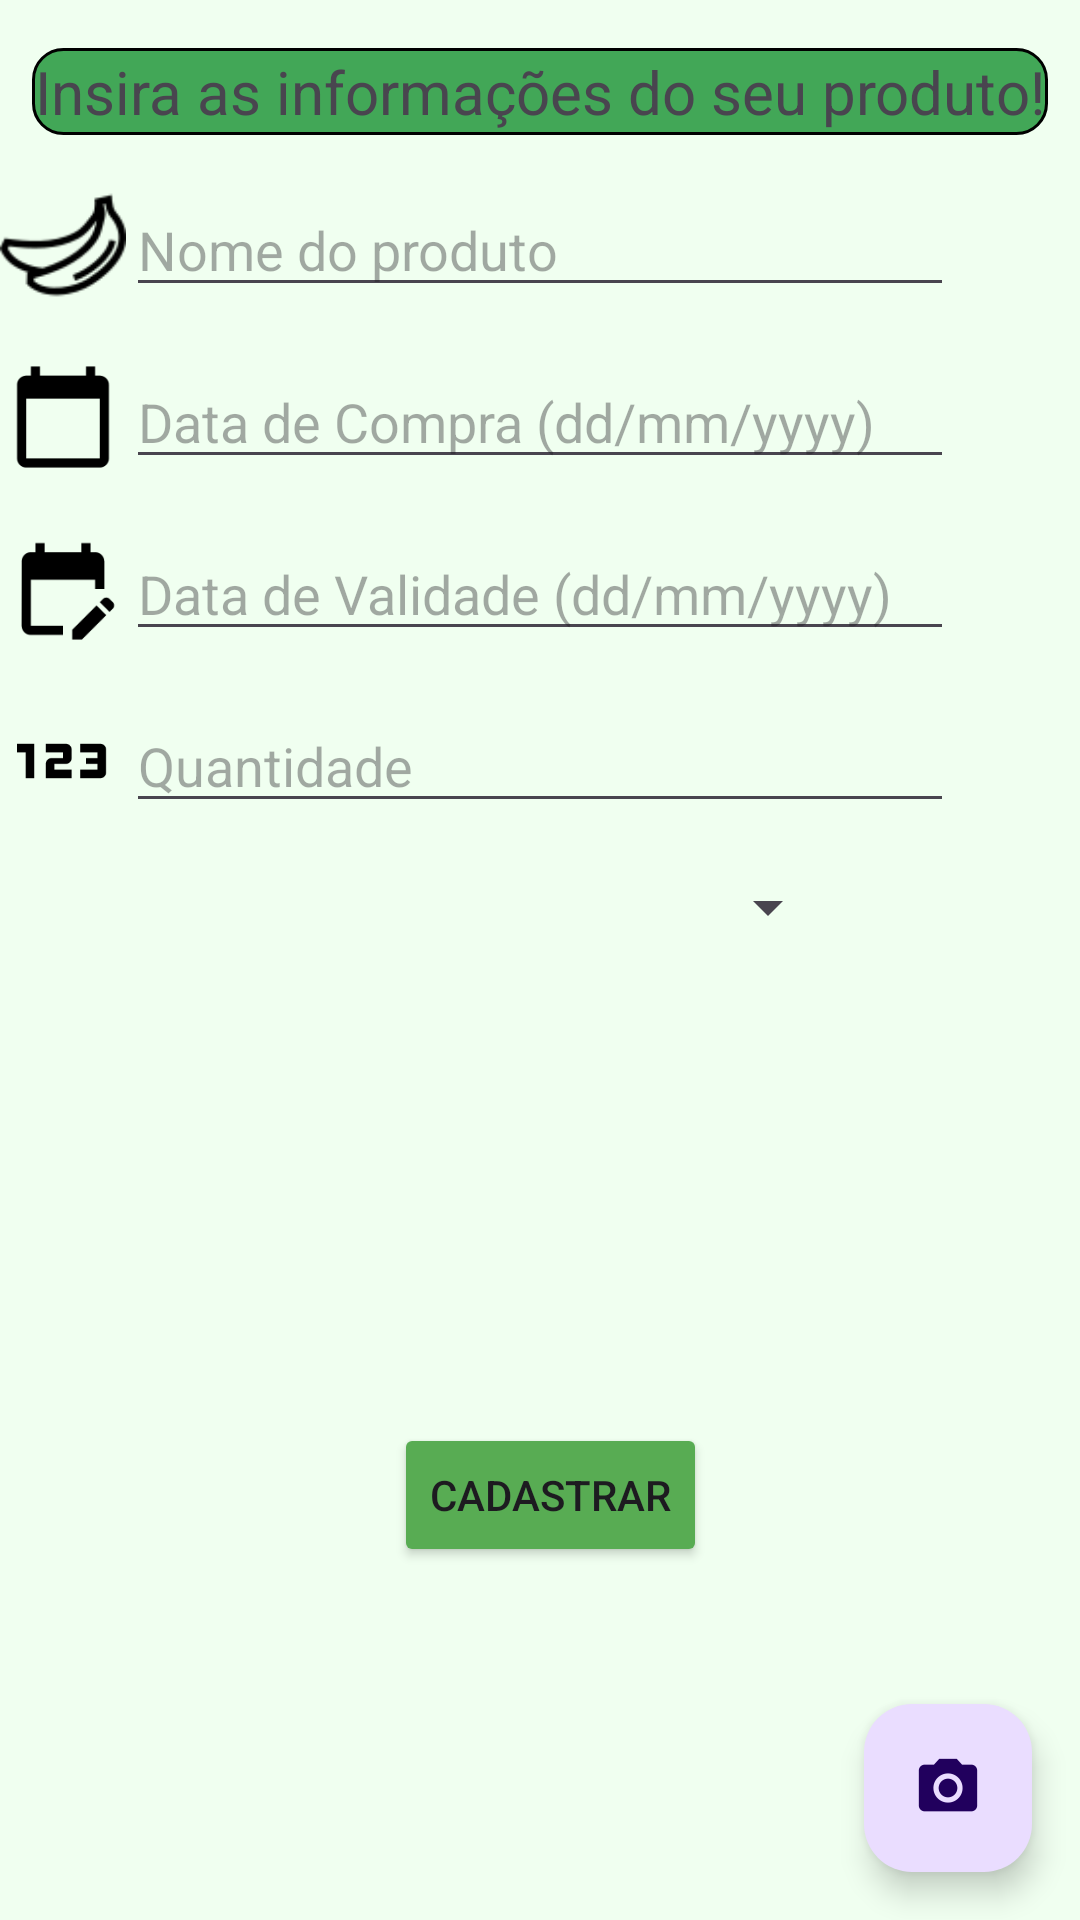

Named icons in this screenshot (1080px x 1920px) and their centers, point (x, y):
calendar then: point (68, 591)
calendar today: point (63, 417)
camera: point (948, 1788)
product banana: point (63, 245)
quantity: point (62, 761)
